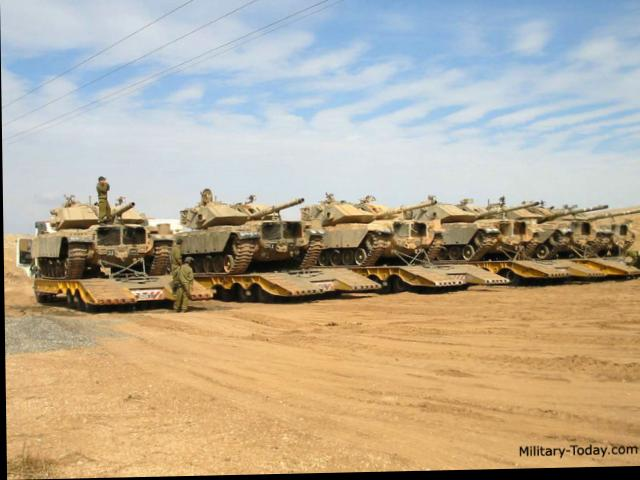tank: (20, 172, 178, 316), (168, 184, 310, 290), (315, 191, 445, 282), (425, 194, 499, 268), (493, 194, 543, 272), (571, 200, 626, 267)
